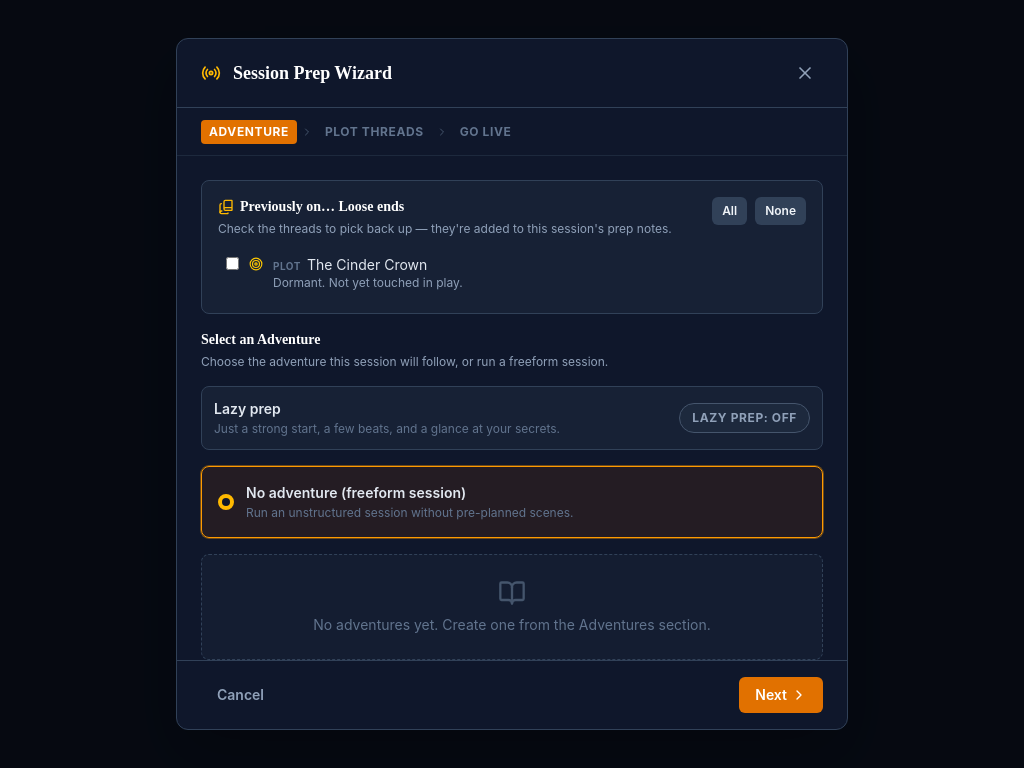
Test: "Reincorporate" names the ONE sampled piece › fills the strong-start field with the draft
This screenshot has width=1024, height=768.
Click the button "Lazy prep: off": (745, 418) [679,403,810,433]
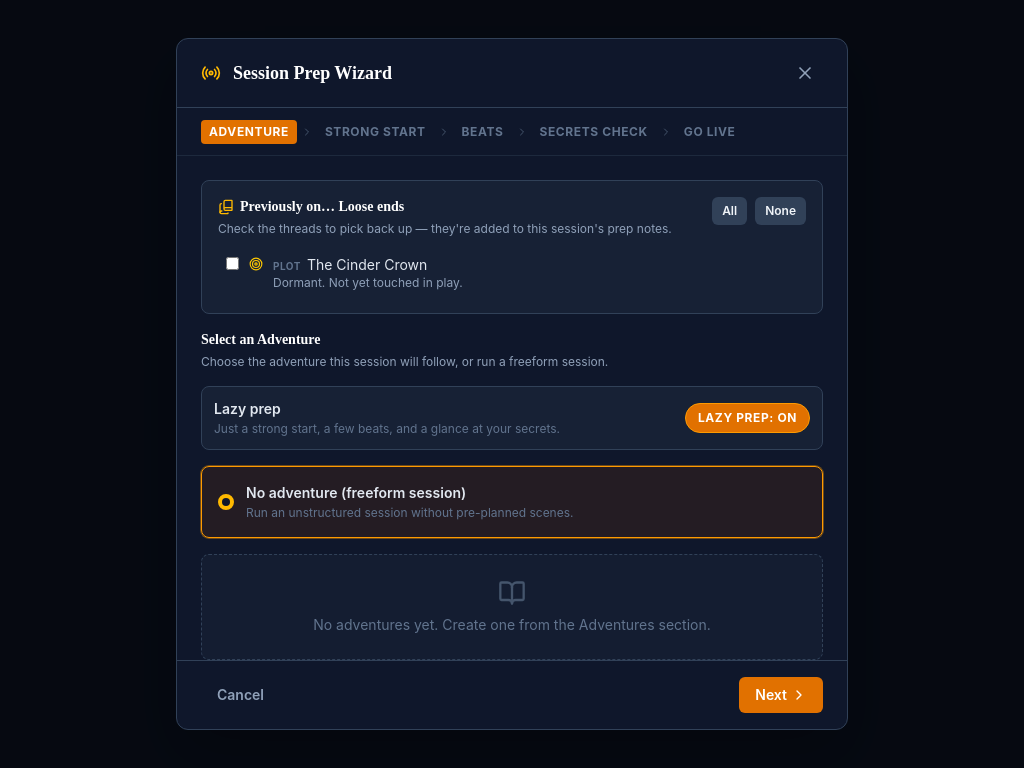
Click the button "Strong Start": (375, 132) [317,120,434,144]
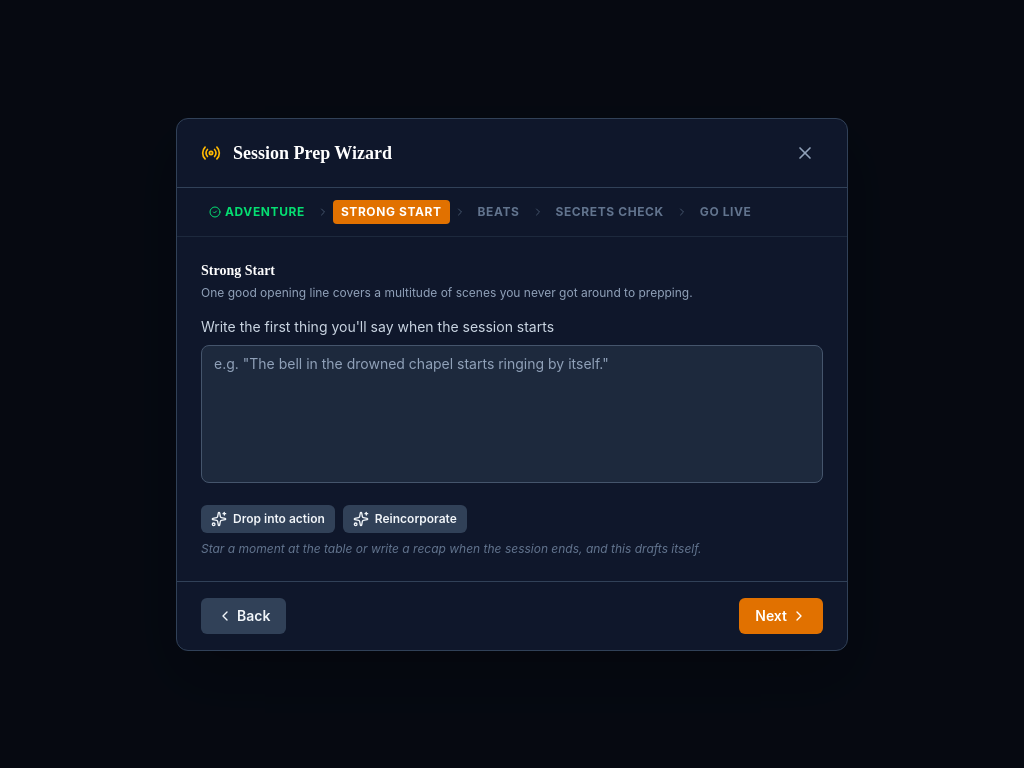
Click the button "Reincorporate": (405, 518) [343,504,467,532]
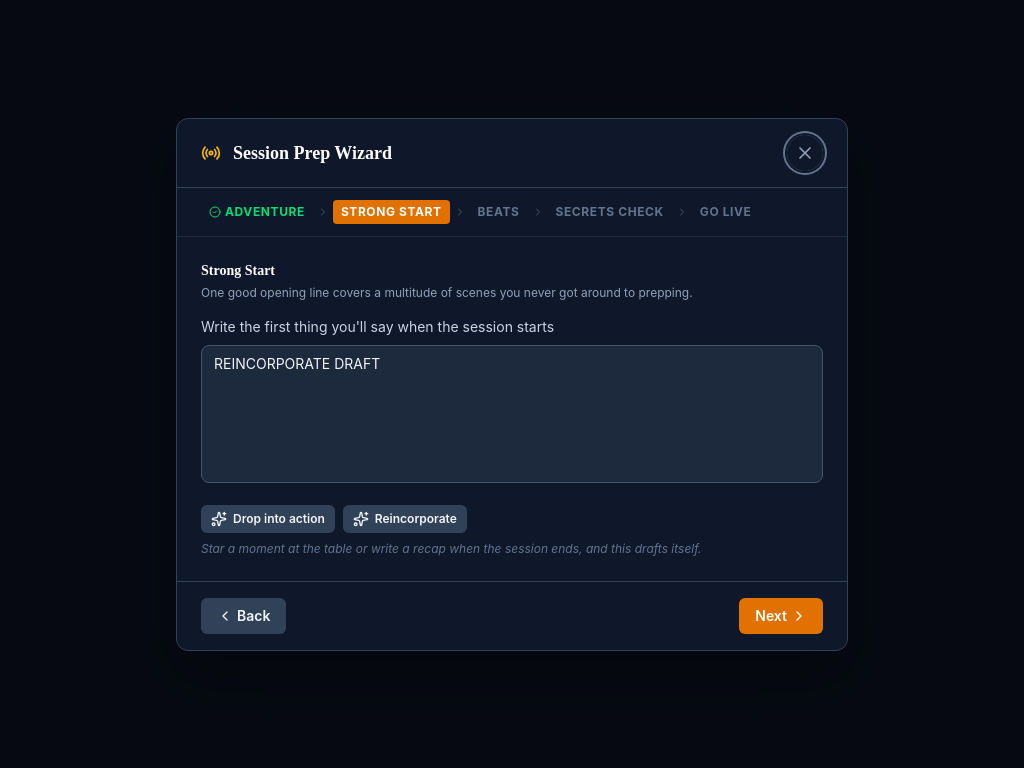
expect the text box labelled "Write the first thing you'll say when the session starts" holds "REINCORPORATE DRAFT": met, box [201,344,823,482]
